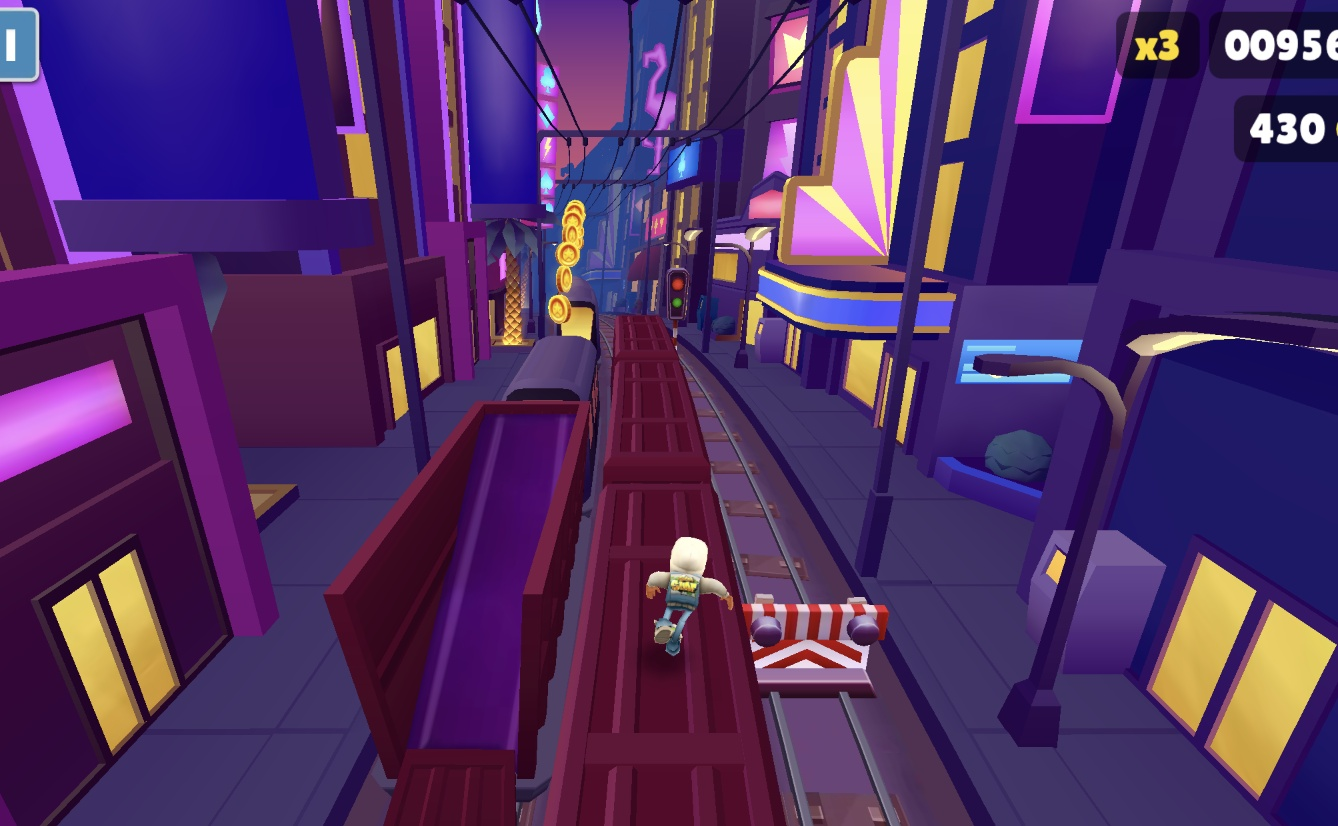ground_barrier: (741, 596, 891, 696)
train: (307, 337, 607, 826), (597, 299, 784, 826)
